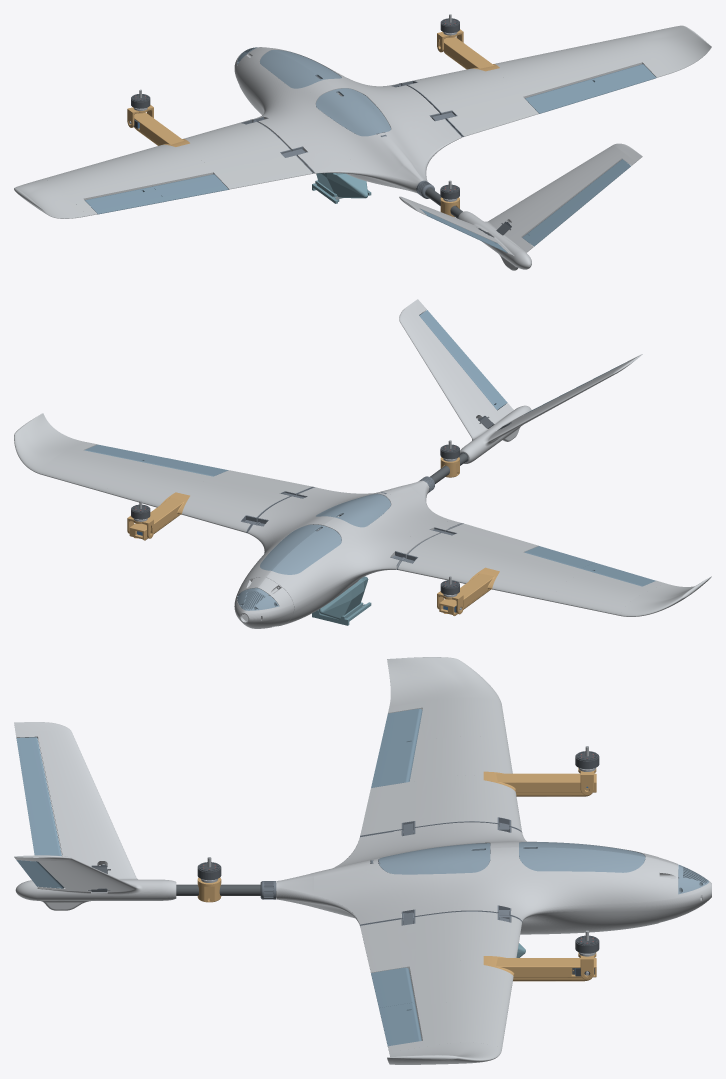
Rendered from stallion_v2_equipped_with_pod.glb.
3 views of the same model, one above another, from view 1: azimuth 30°, elevation 25°; view 2: azimuth 150°, elevation 25°; view 3: azimuth 270°, elevation 25° (orthographic). The views are drawn at different scales.
Visible parts, largest first — view 1: WING 1L VTOL, WING 1R VTOL, FUS 4L, WING 2L VTOL, WING 2R VTOL, WING 3 L NO LED, FUS 5L, WING 3 R NO LED, WINGTIP R NO LED, FUS 4R, V TAIL 1 R, WINGTIP L NO LED (+21 smaller); view 2: WING 1L VTOL, WING 1R VTOL, WING 2L VTOL, WING 3 L NO LED, WING 2R VTOL, FUS 2L, WING 3 R NO LED, FUS 1L, WINGTIP R NO LED, V TAIL 1 R, NOSE, FUS 4L (+24 smaller); view 3: WING 1R VTOL, WING 1L VTOL, FUS 2R, FUS 1R, V TAIL 1 L, WINGTIP L NO LED, WING 2R VTOL, FUS 4R, WING 3 R NO LED, WING 2L VTOL, WING 3 L NO LED, FUS 5R (+23 smaller).
Boxes of the visible parts, left/top/right/bottom form: WING 1L VTOL: left=183, top=120, right=312, bottom=189; WING 1R VTOL: left=401, top=68, right=538, bottom=136; FUS 4L: left=276, top=115, right=385, bottom=182; WING 2L VTOL: left=108, top=144, right=213, bottom=188; WING 2R VTOL: left=493, top=52, right=587, bottom=98; WING 3 L NO LED: left=43, top=160, right=142, bottom=216; FUS 5L: left=311, top=138, right=422, bottom=193; WING 3 R NO LED: left=553, top=37, right=666, bottom=79; WINGTIP R NO LED: left=623, top=25, right=711, bottom=74; FUS 4R: left=374, top=97, right=458, bottom=142; V TAIL 1 R: left=494, top=179, right=576, bottom=237; WINGTIP L NO LED: left=14, top=179, right=86, bottom=218; WING 1L VTOL: left=398, top=523, right=538, bottom=583; WING 1R VTOL: left=182, top=470, right=312, bottom=532; WING 2L VTOL: left=492, top=552, right=586, bottom=601; WING 3 L NO LED: left=550, top=571, right=665, bottom=615; WING 2R VTOL: left=105, top=462, right=212, bottom=507; FUS 2L: left=319, top=521, right=400, bottom=605; WING 3 R NO LED: left=41, top=442, right=142, bottom=492; FUS 1L: left=266, top=559, right=334, bottom=626; WINGTIP R NO LED: left=14, top=413, right=86, bottom=474; V TAIL 1 R: left=432, top=358, right=496, bottom=431; NOSE: left=234, top=577, right=294, bottom=628; FUS 4L: left=374, top=492, right=459, bottom=540; WING 1R VTOL: left=360, top=911, right=521, bottom=972; WING 1L VTOL: left=360, top=775, right=521, bottom=835; FUS 2R: left=506, top=847, right=584, bottom=934; FUS 1R: left=585, top=857, right=658, bottom=932; V TAIL 1 L: left=50, top=796, right=133, bottom=870; WINGTIP L NO LED: left=387, top=657, right=501, bottom=706; WING 2R VTOL: left=409, top=960, right=513, bottom=1011; FUS 4R: left=367, top=861, right=453, bottom=923; WING 3 R NO LED: left=388, top=1001, right=508, bottom=1052; WING 2L VTOL: left=409, top=736, right=512, bottom=781; WING 3 L NO LED: left=388, top=697, right=508, bottom=744; FUS 5R: left=276, top=863, right=366, bottom=925.
Bounding box in the file's own units: 1.34 × 0.285 × 0.9914.
